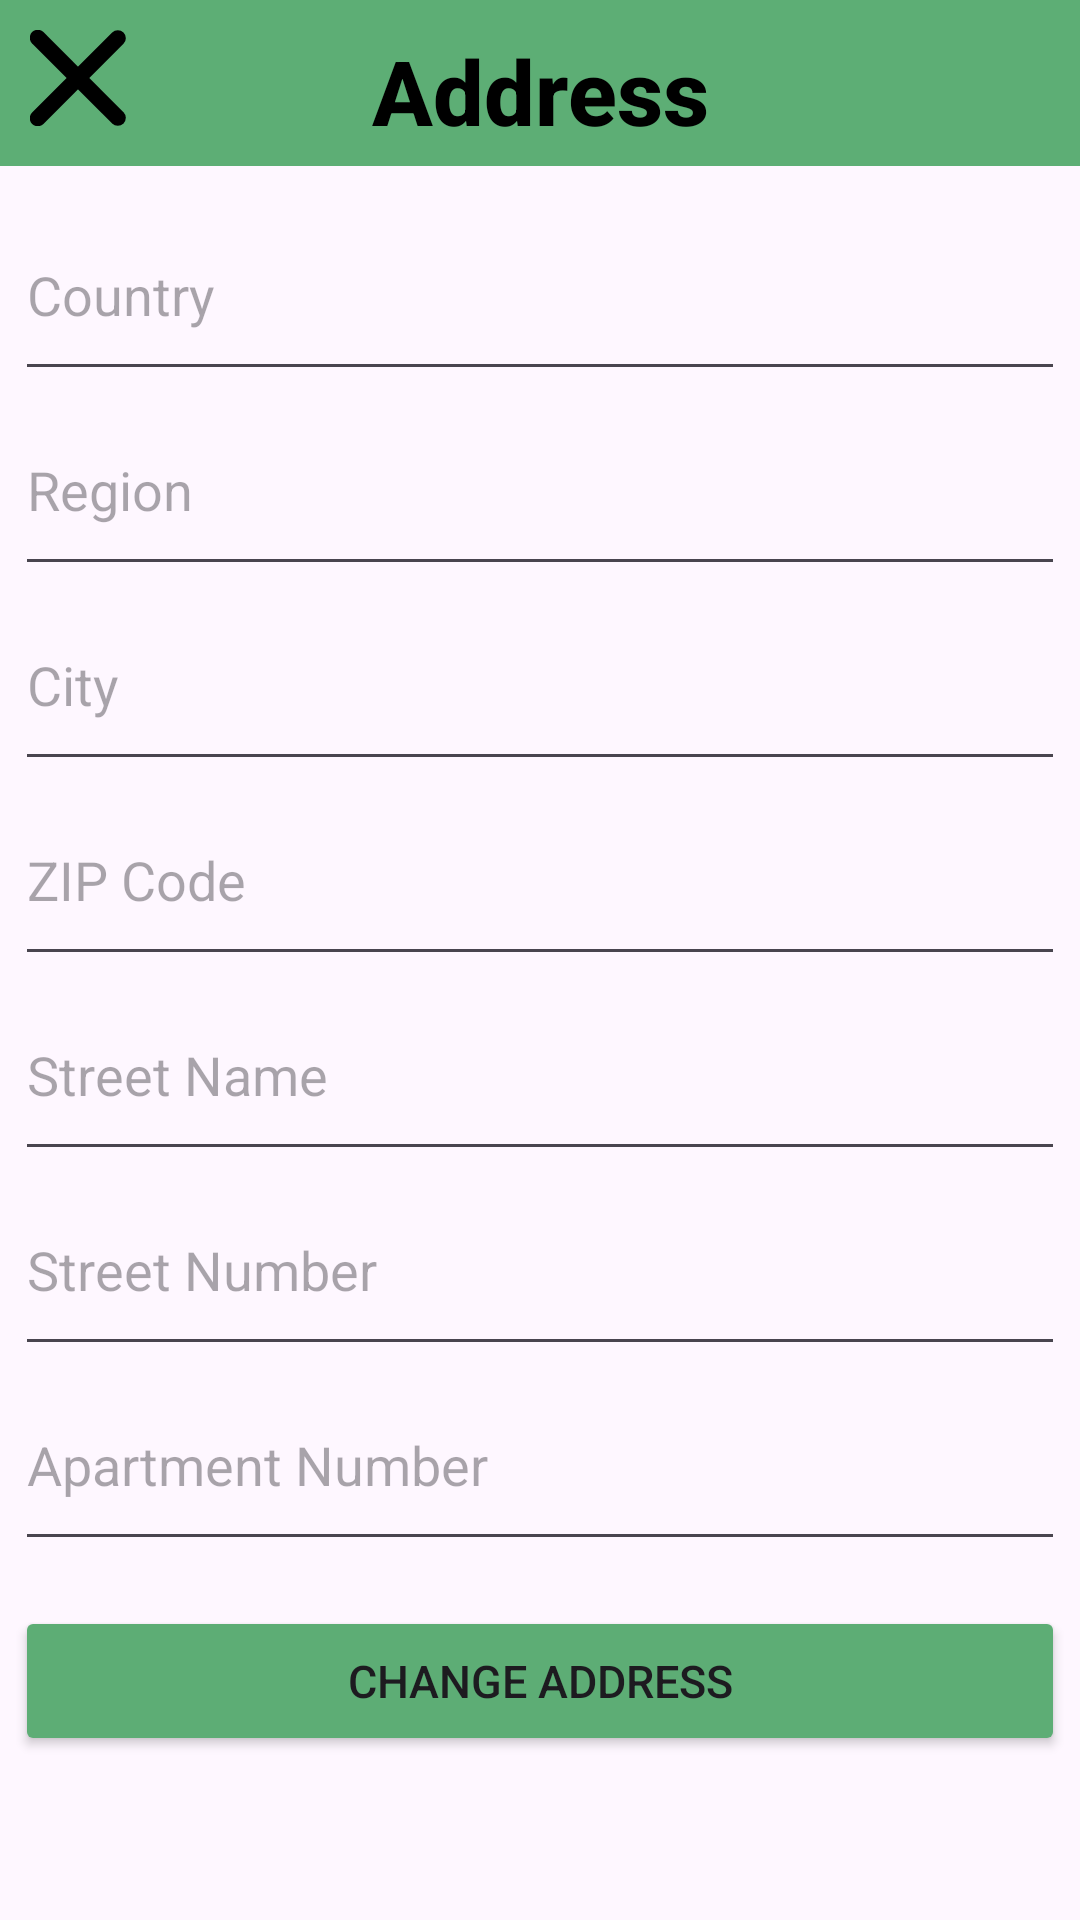

Where to tap for icons on this 1080×1920 app screen, as (x,y):
close: (78,78)
